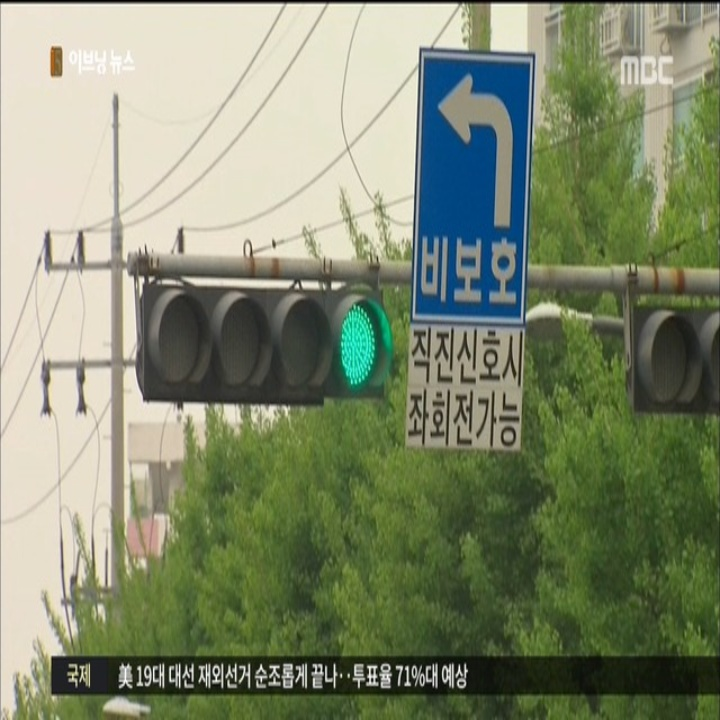left: (430, 64, 524, 230)
